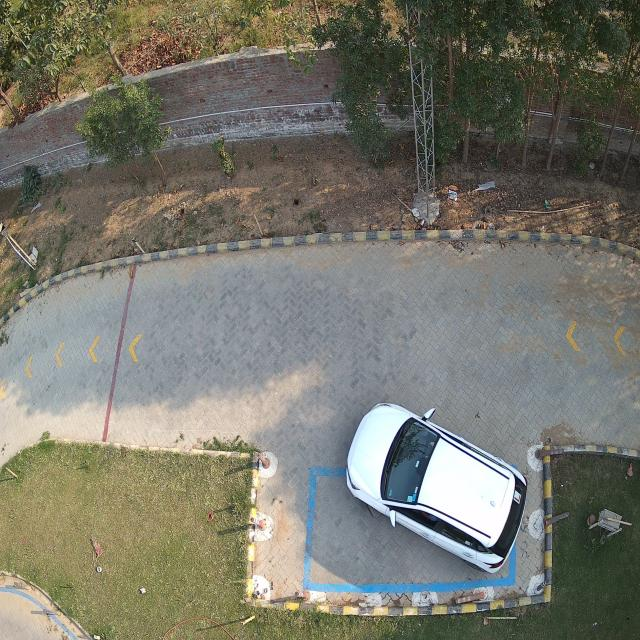car: (346, 402, 528, 574)
